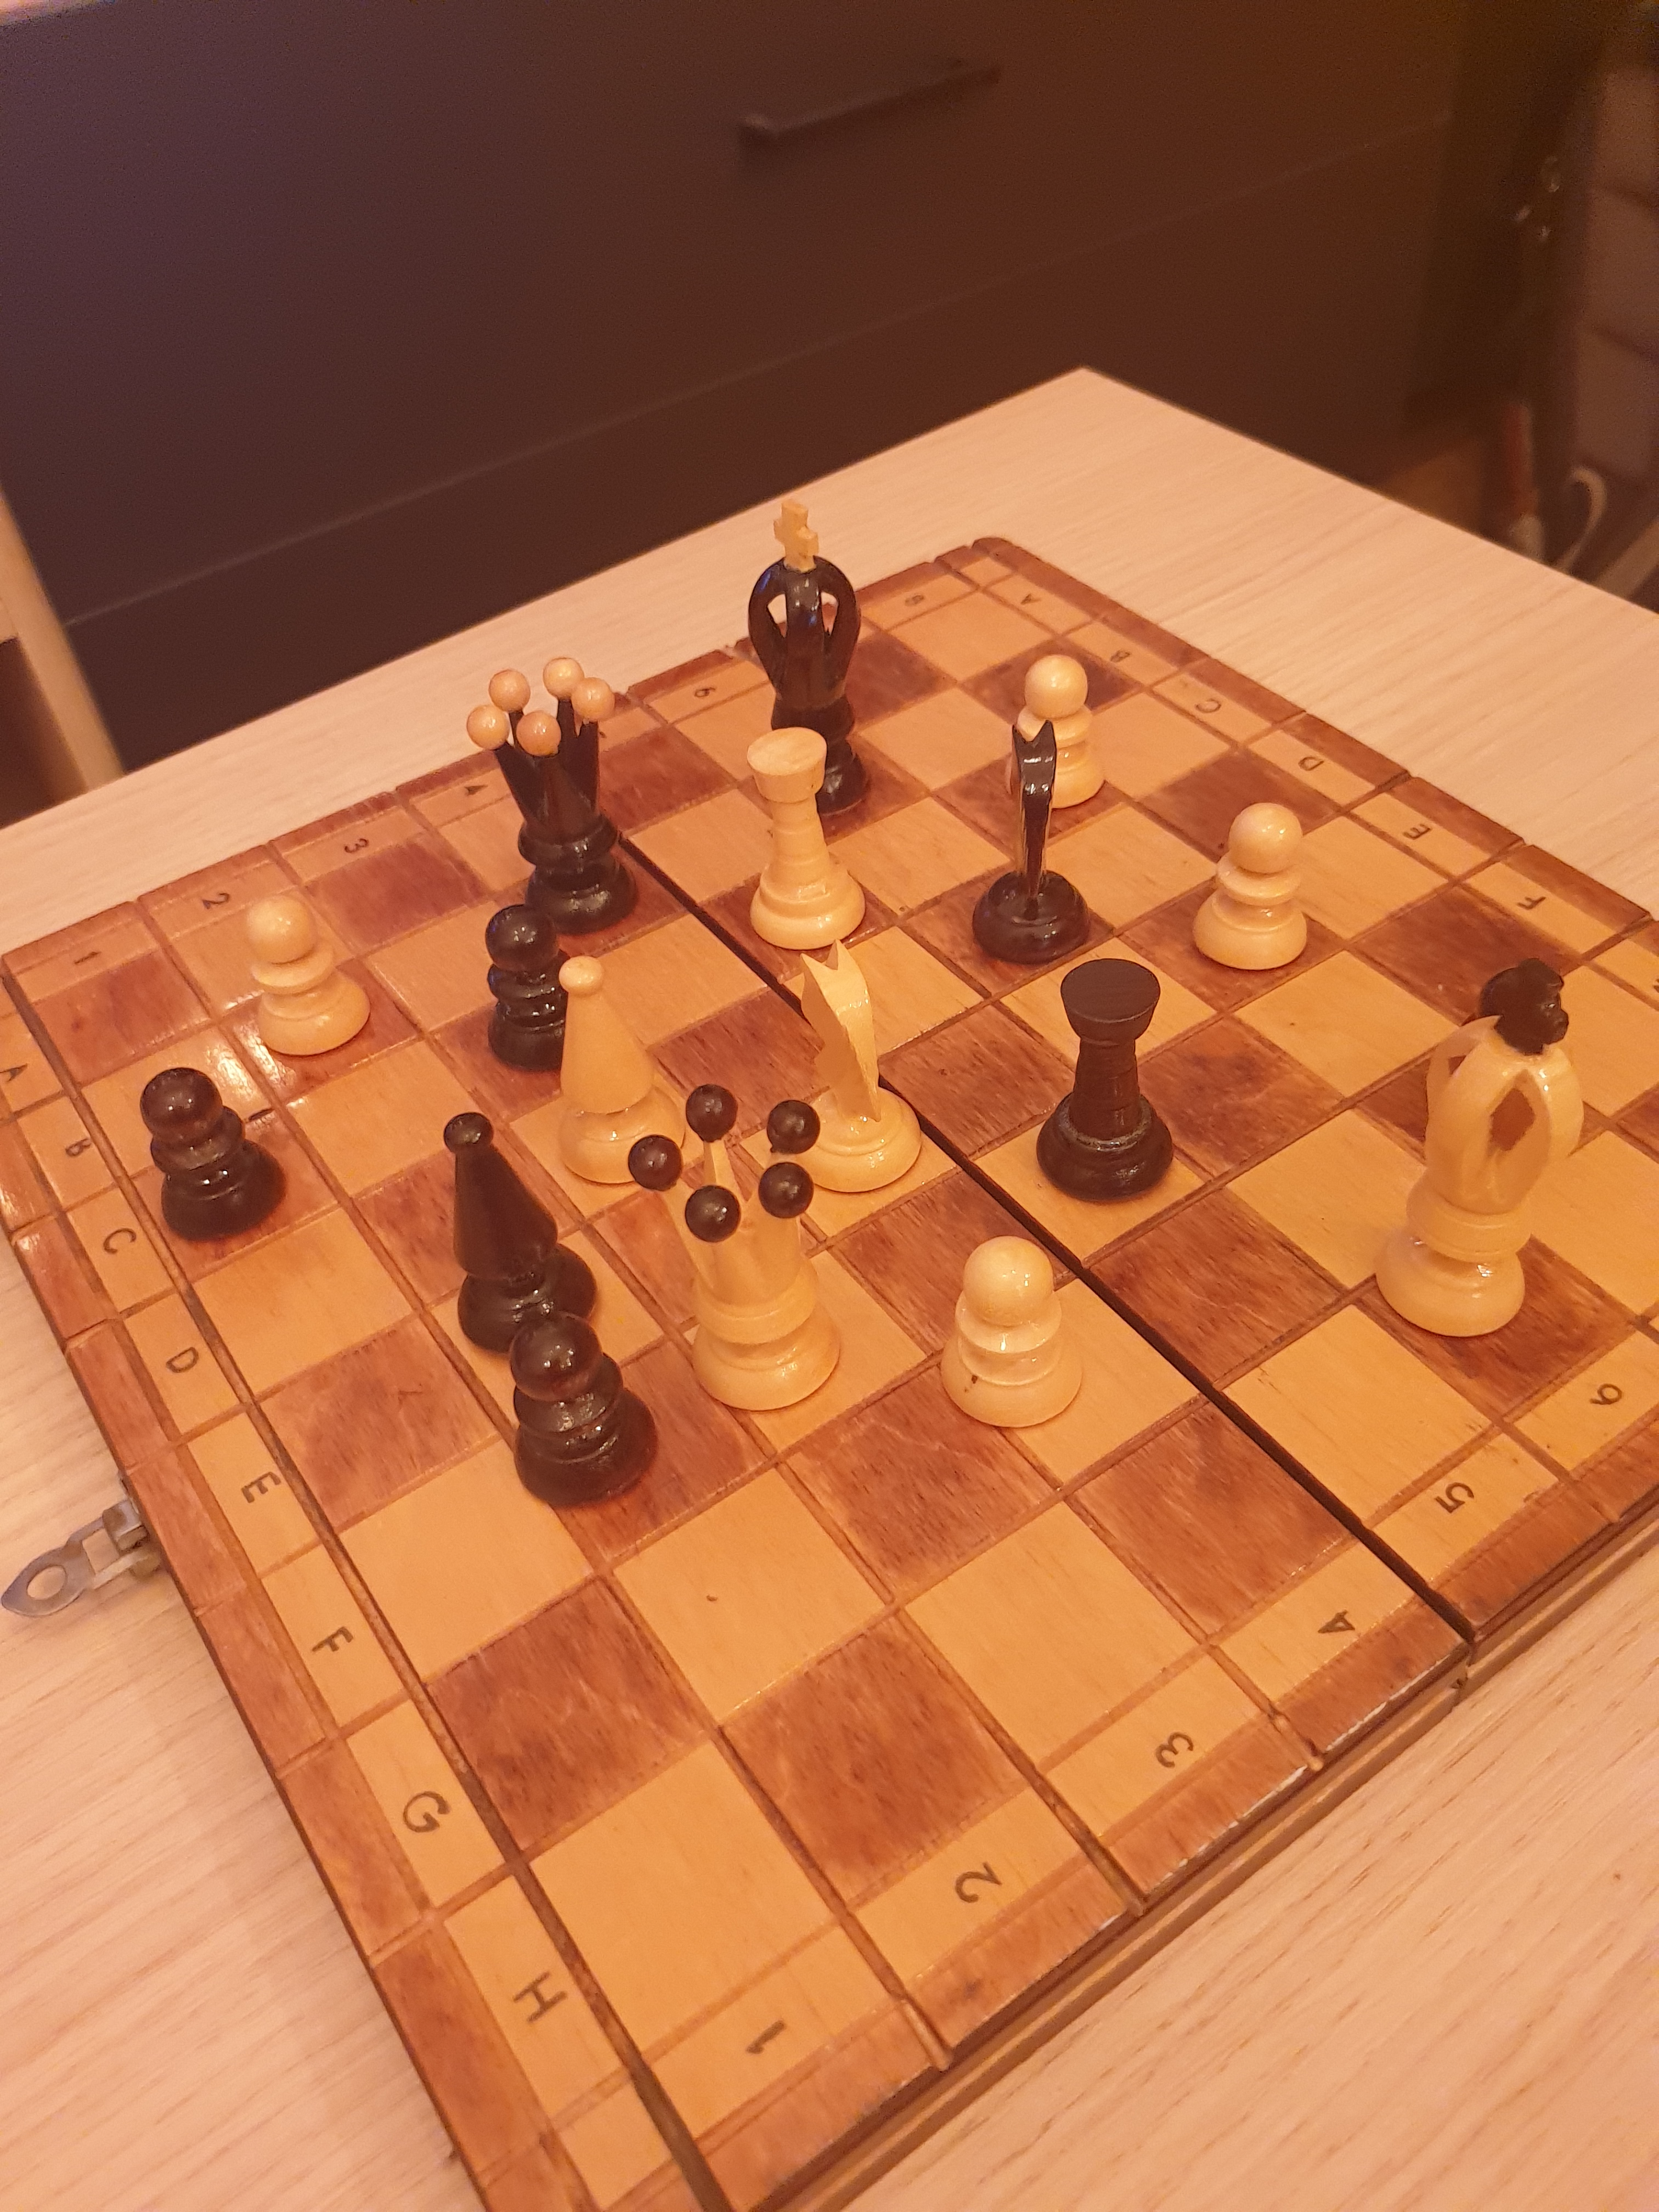bbishop: (416, 1087, 627, 1367)
bking: (723, 484, 903, 834)
bknight: (955, 707, 1112, 982)
bpawn: (497, 1299, 673, 1527), (124, 1050, 296, 1258), (464, 894, 603, 1080)
bqueen: (458, 643, 648, 948)
brook: (1032, 928, 1176, 1214)
wbishop: (535, 942, 711, 1212)
wking: (1366, 944, 1595, 1374)
wknight: (765, 918, 943, 1202)
wpawn: (927, 1209, 1103, 1454), (1175, 786, 1330, 993), (228, 880, 382, 1080), (1000, 631, 1121, 838)
wqueen: (627, 1059, 857, 1430)
wrook: (728, 712, 877, 953)
